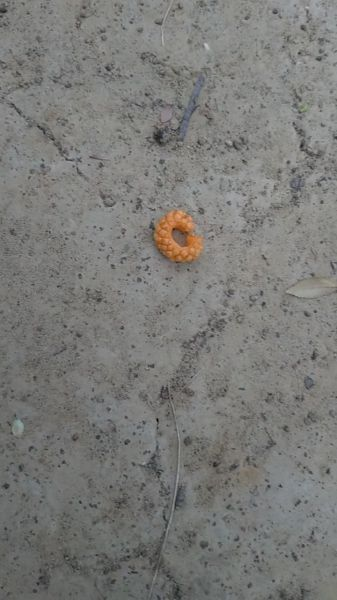eggs: (148, 196, 213, 272)
